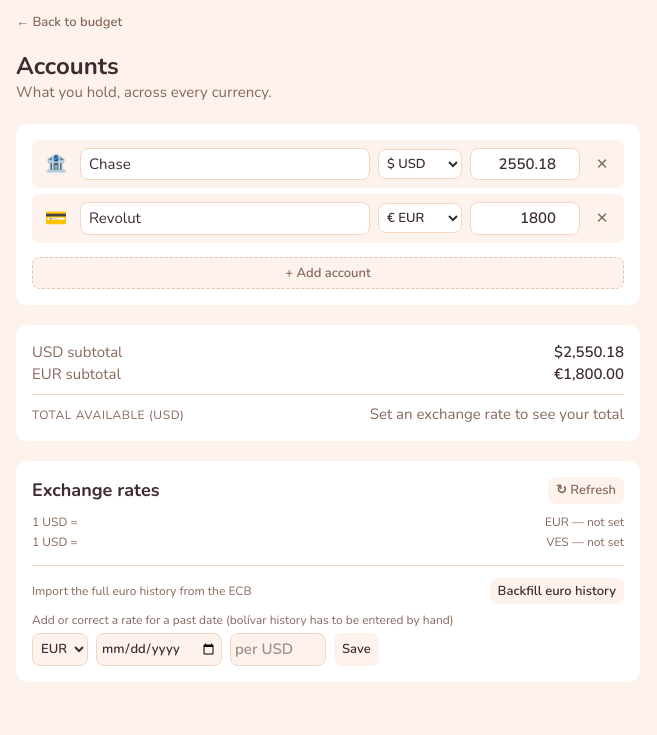
Test: Accounts page › rolls back and shows an error when a save fails
Replace the text in the number field named "Balance for Chase" with "3000" at (525, 164), box left=470, top=148, right=580, bottom=180
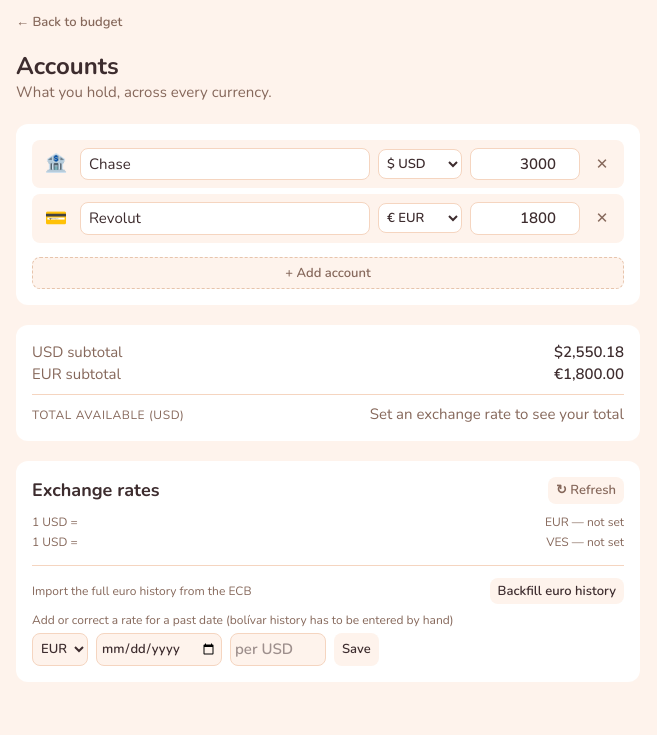
Leave the number field named "Balance for Chase", box left=470, top=148, right=580, bottom=180
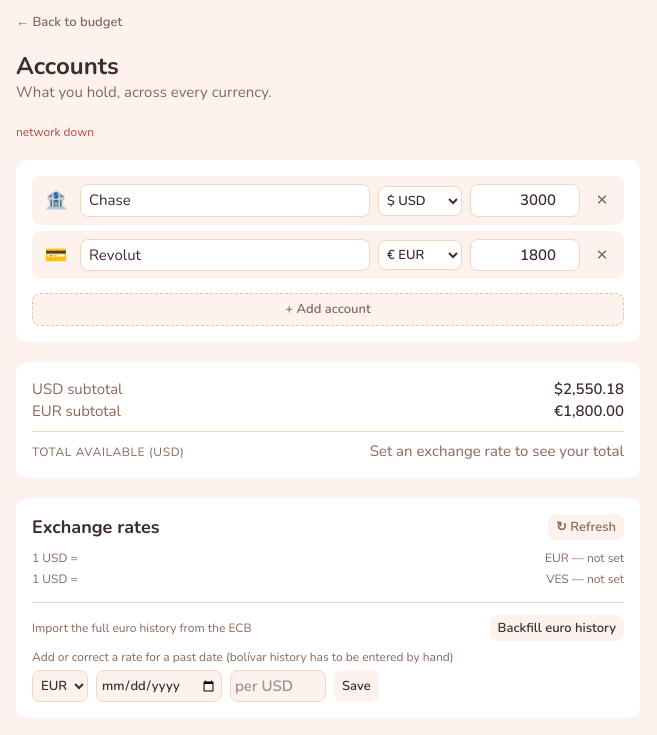
Check: the text "network down" is shown, box left=16, top=124, right=94, bottom=140
